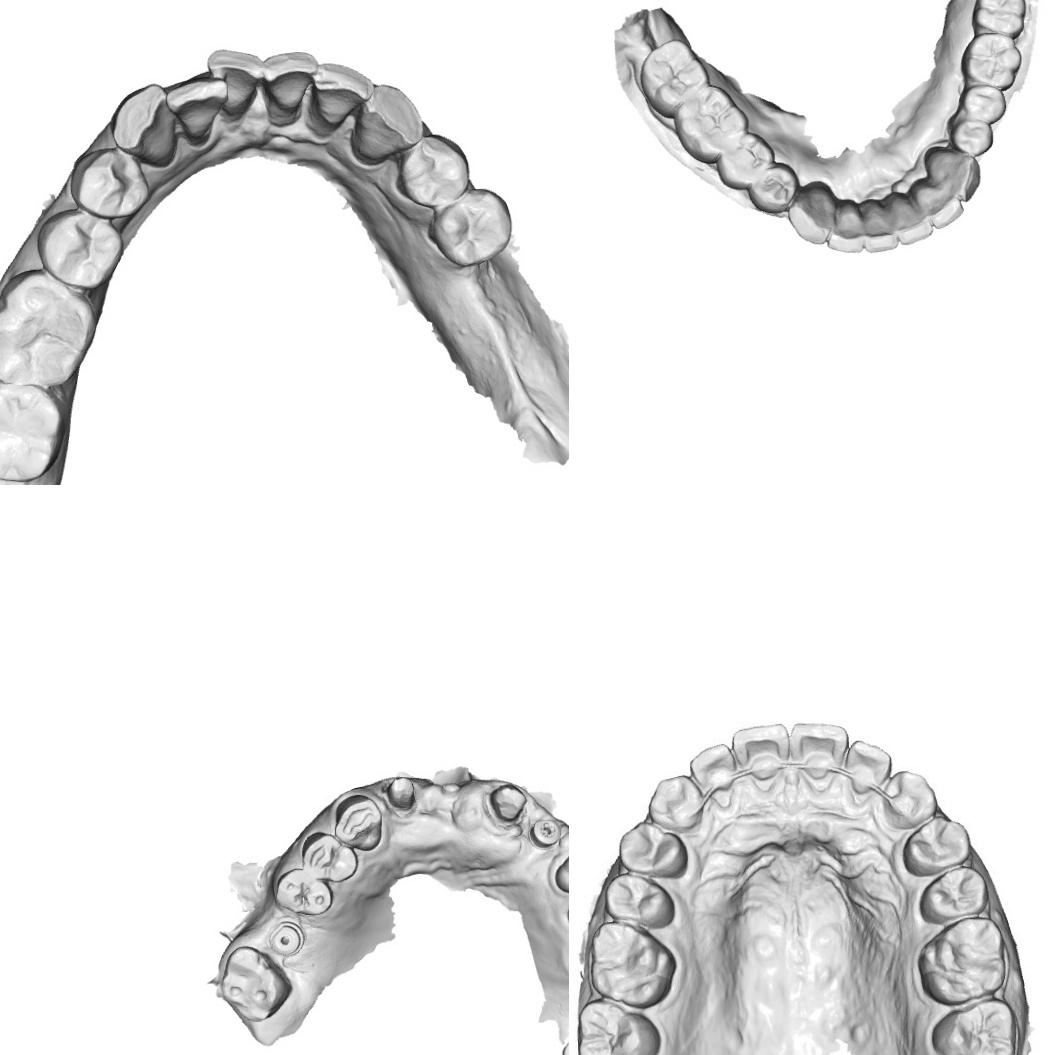canine: (350, 81, 426, 168), (106, 79, 180, 167), (786, 180, 838, 246), (924, 145, 982, 203), (332, 791, 384, 852), (882, 771, 935, 825), (647, 775, 701, 827), (553, 842, 569, 898)
crown: (486, 779, 530, 824), (384, 774, 418, 816)
implant: (268, 919, 304, 957)
implant_plus: (528, 815, 563, 849)
incisor: (166, 75, 228, 146), (206, 45, 264, 117), (259, 49, 319, 118), (310, 62, 374, 126), (789, 718, 847, 782), (734, 724, 788, 780), (844, 740, 894, 796), (914, 180, 966, 230), (888, 190, 934, 246), (690, 742, 739, 792), (824, 196, 866, 254), (858, 196, 900, 252)
molar: (0, 267, 97, 390), (588, 920, 678, 1012), (921, 918, 1010, 1010), (0, 380, 62, 485), (672, 84, 751, 166), (638, 36, 712, 120), (219, 943, 294, 1025), (931, 997, 1023, 1055), (577, 1000, 657, 1055), (959, 31, 1024, 90), (969, 0, 1027, 40)
premolar: (428, 187, 512, 268), (40, 208, 121, 289), (66, 147, 150, 218), (396, 134, 472, 210), (606, 872, 682, 934), (916, 865, 990, 921), (620, 826, 693, 880), (714, 130, 776, 192), (904, 818, 970, 874), (299, 830, 359, 884), (746, 161, 802, 216), (272, 866, 333, 916), (957, 83, 1008, 125), (946, 117, 995, 158)
